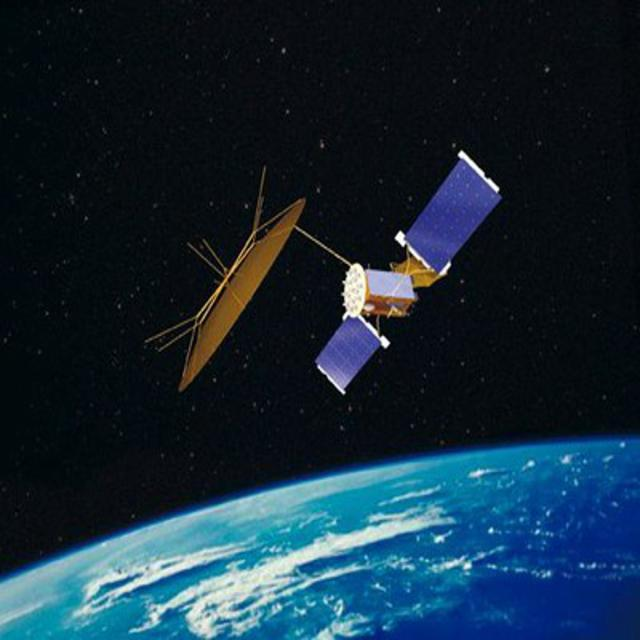sat: (143, 86, 513, 424)
